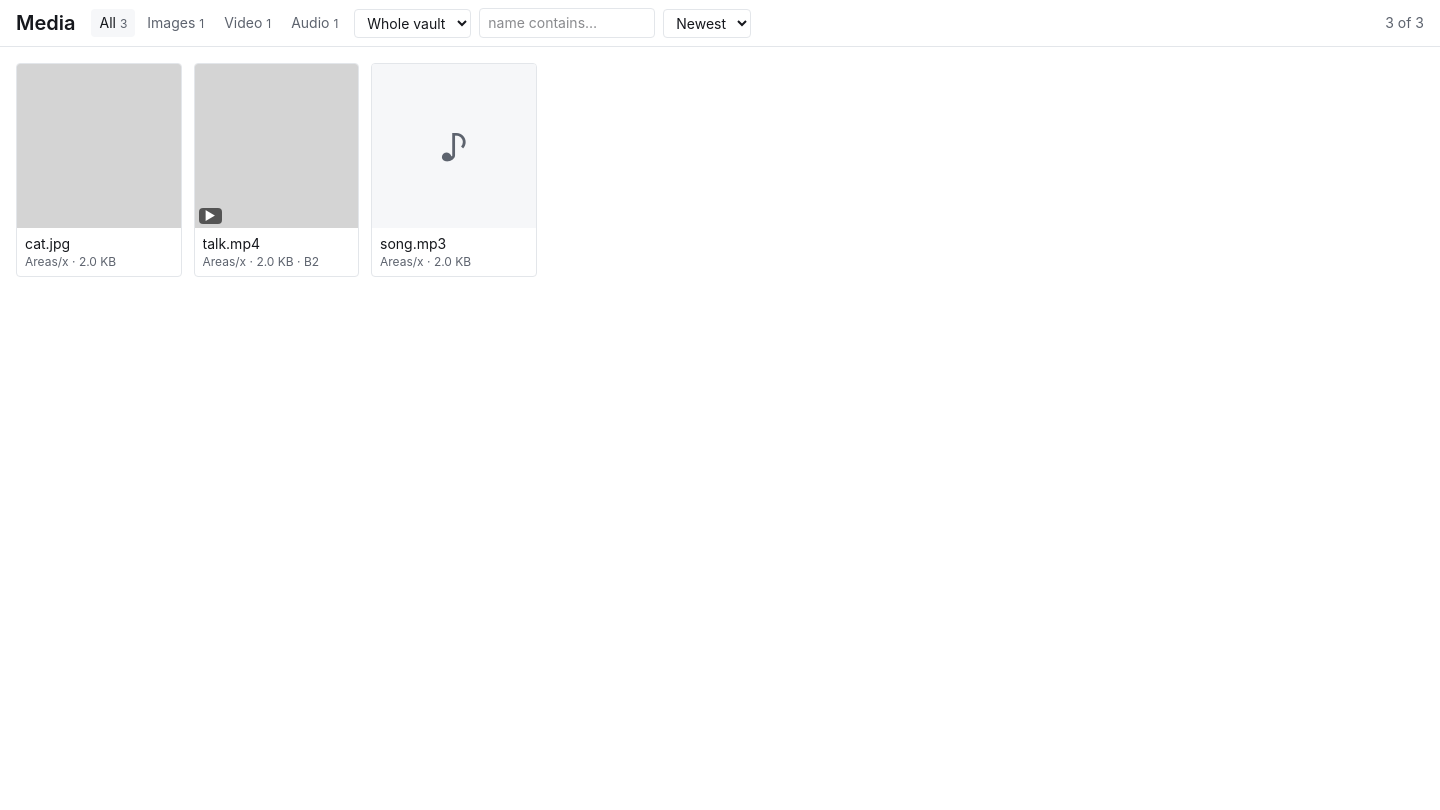
Scenario: Media page › opens a lightbox that steps with the arrow keys and closes on Escape
Click the text "cat.jpg" at (48,243), box [25,234,70,252]
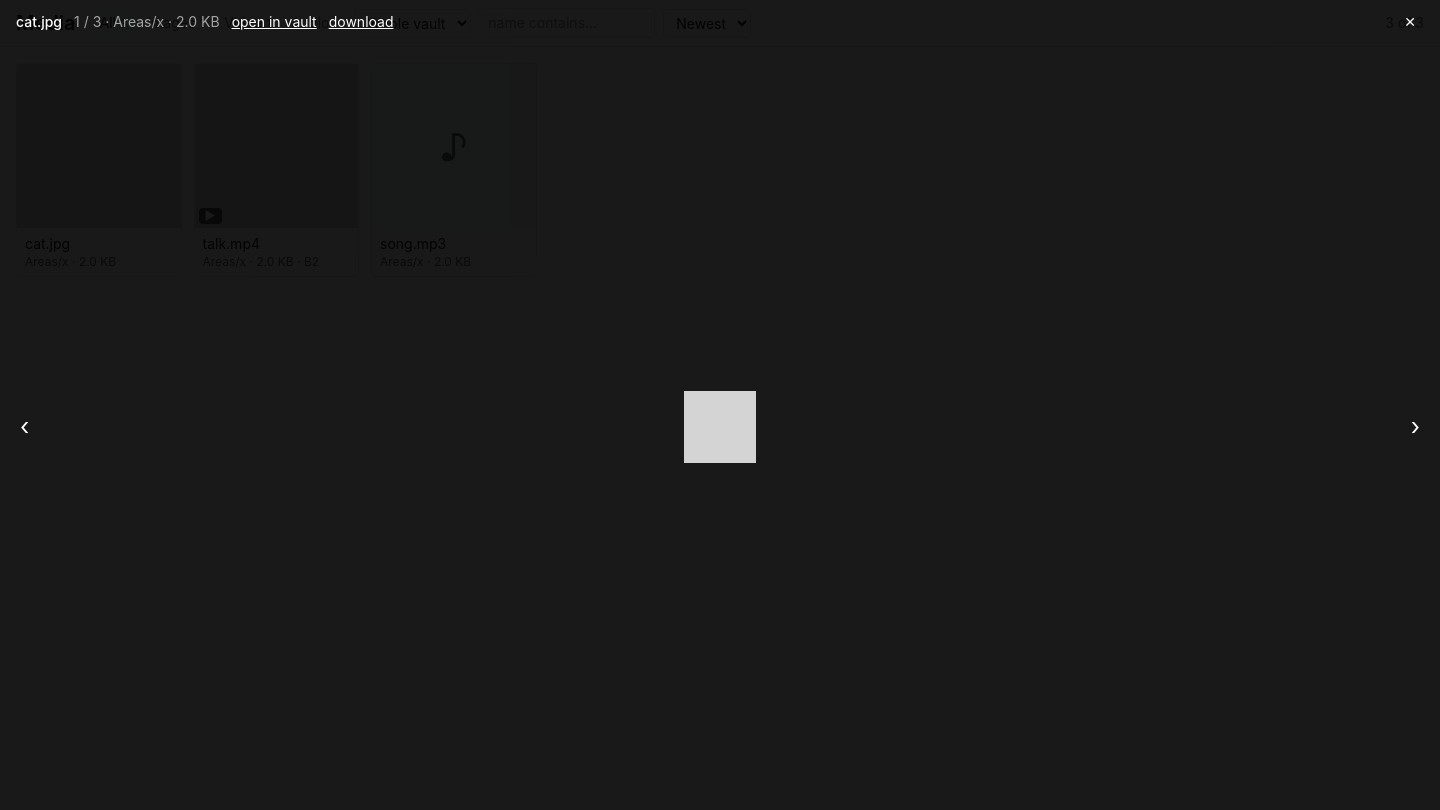
Press ArrowRight
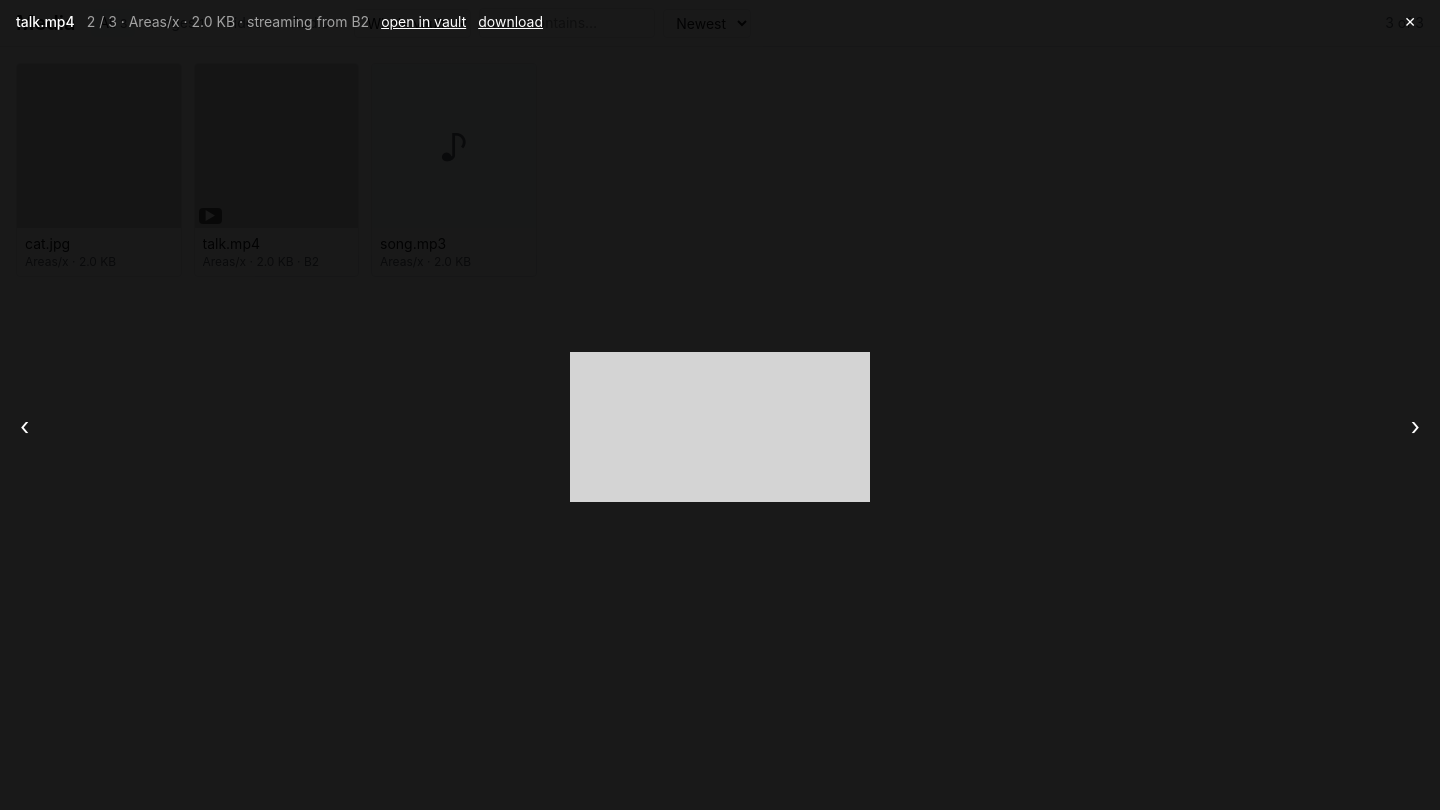
Expected: the text "2 / 3 · Areas/x · 2.0 KB · streaming from B2" is shown, [87,12,369,32]
Press ArrowLeft
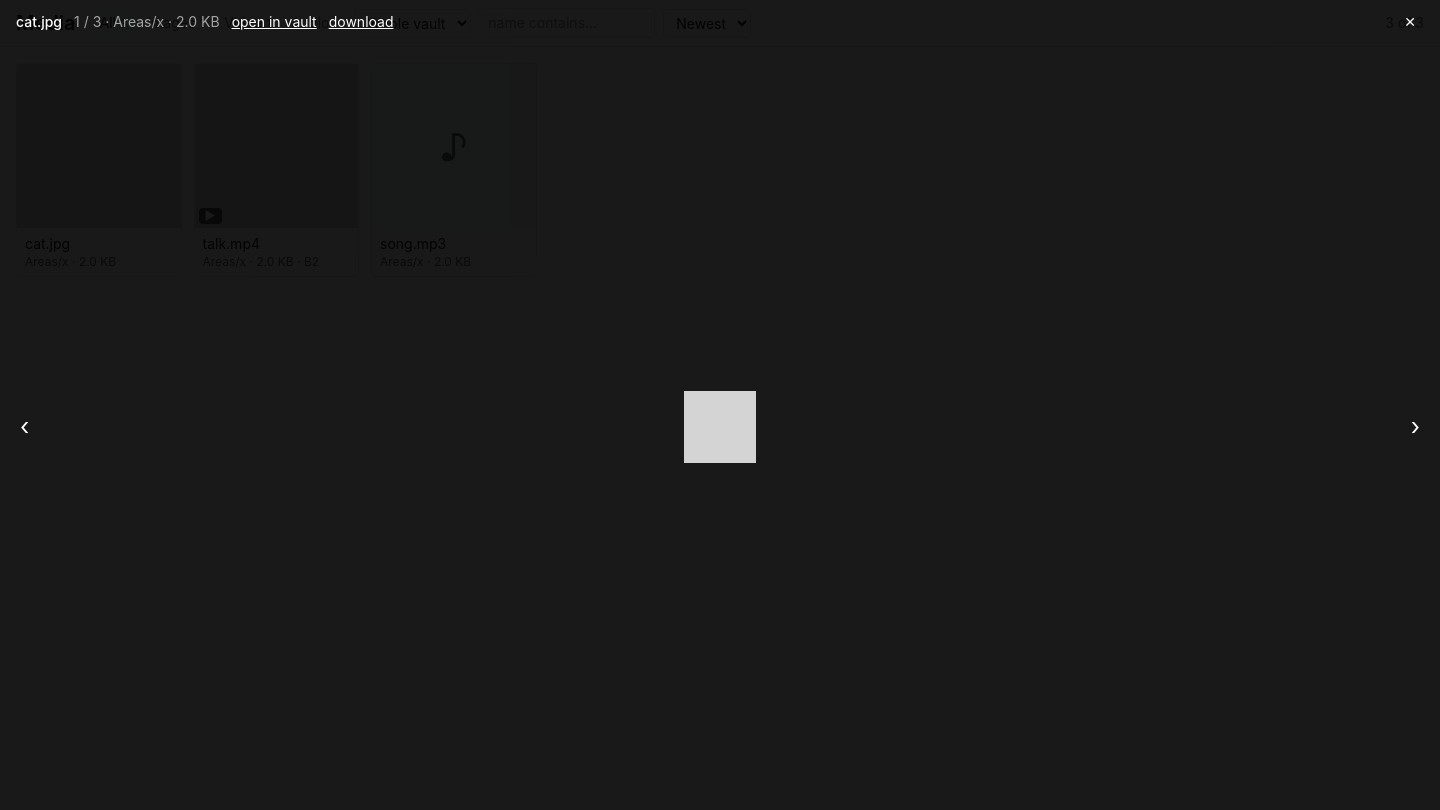
Press ArrowLeft
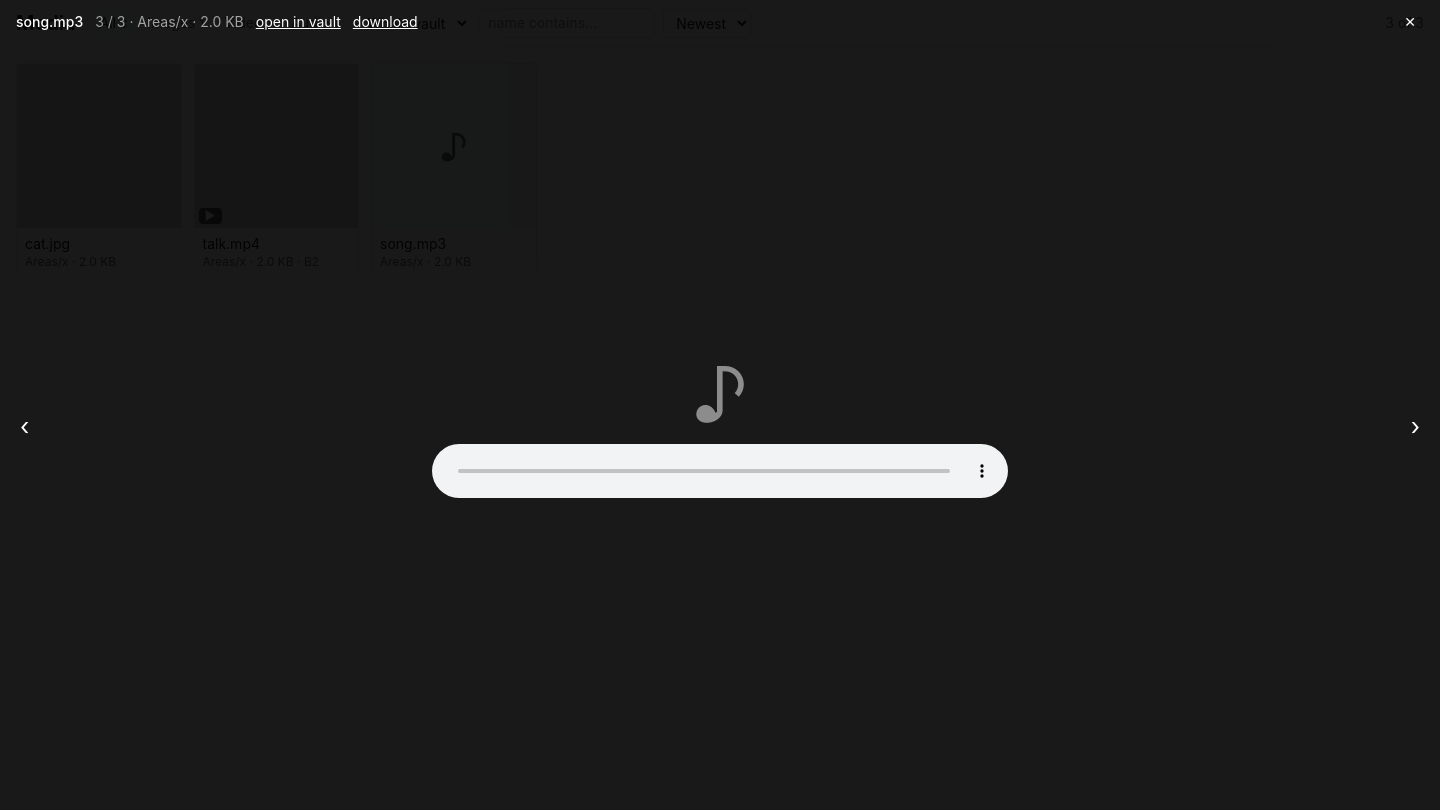
Press Escape
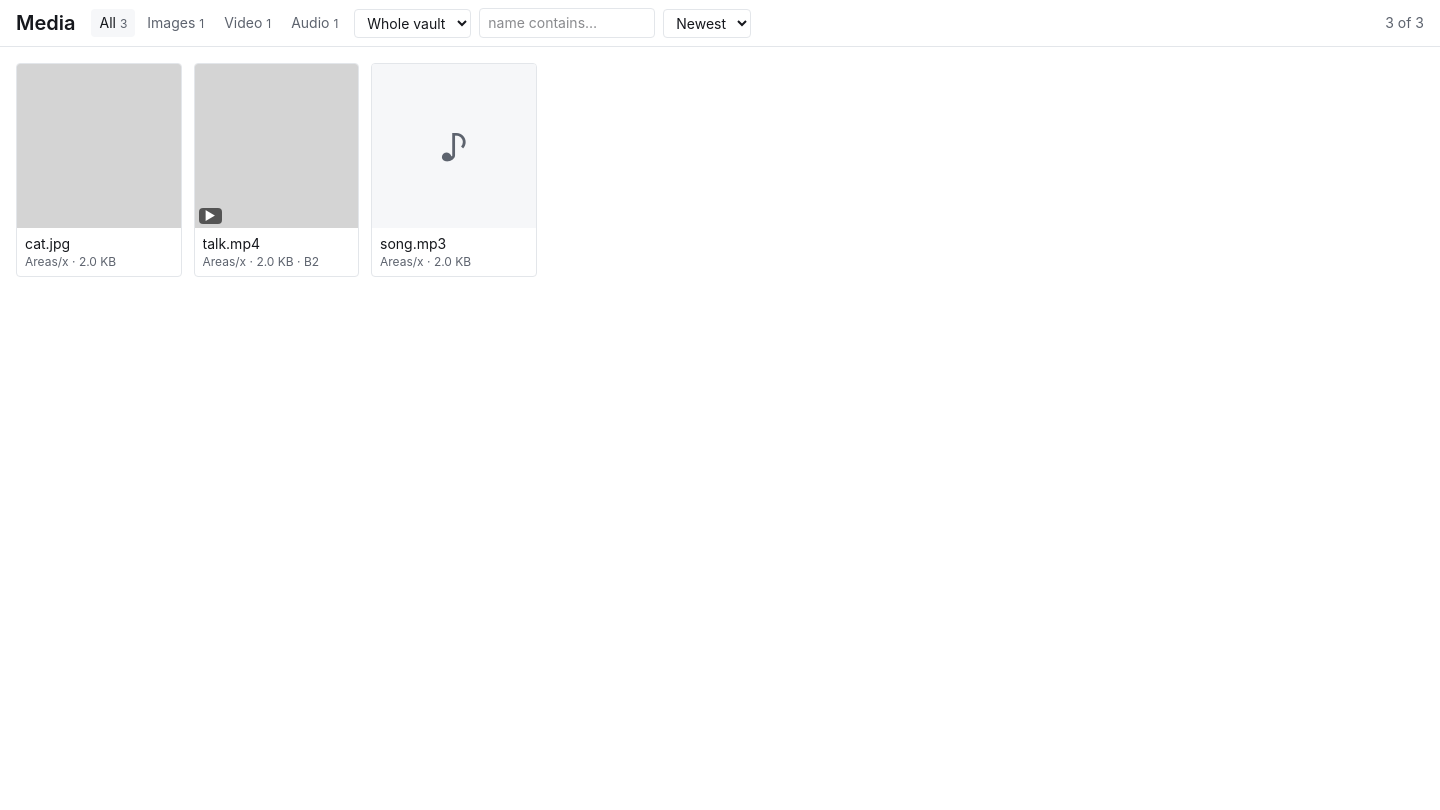
Expected: the dialog is gone
